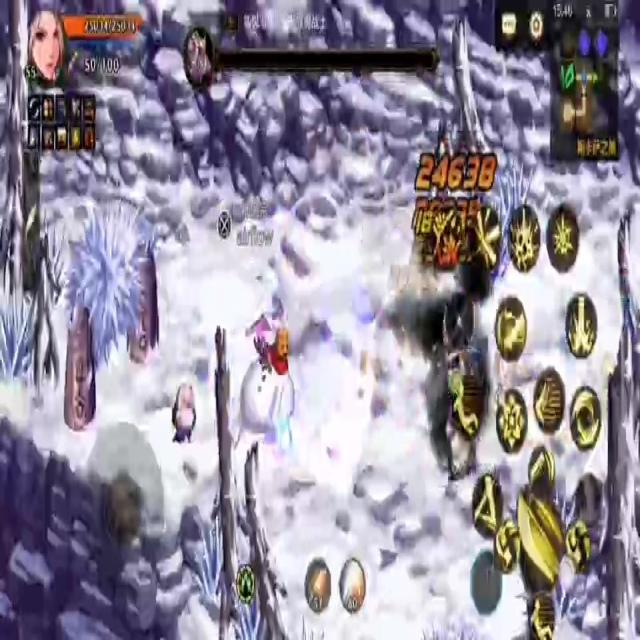player: (233, 320, 297, 464)
